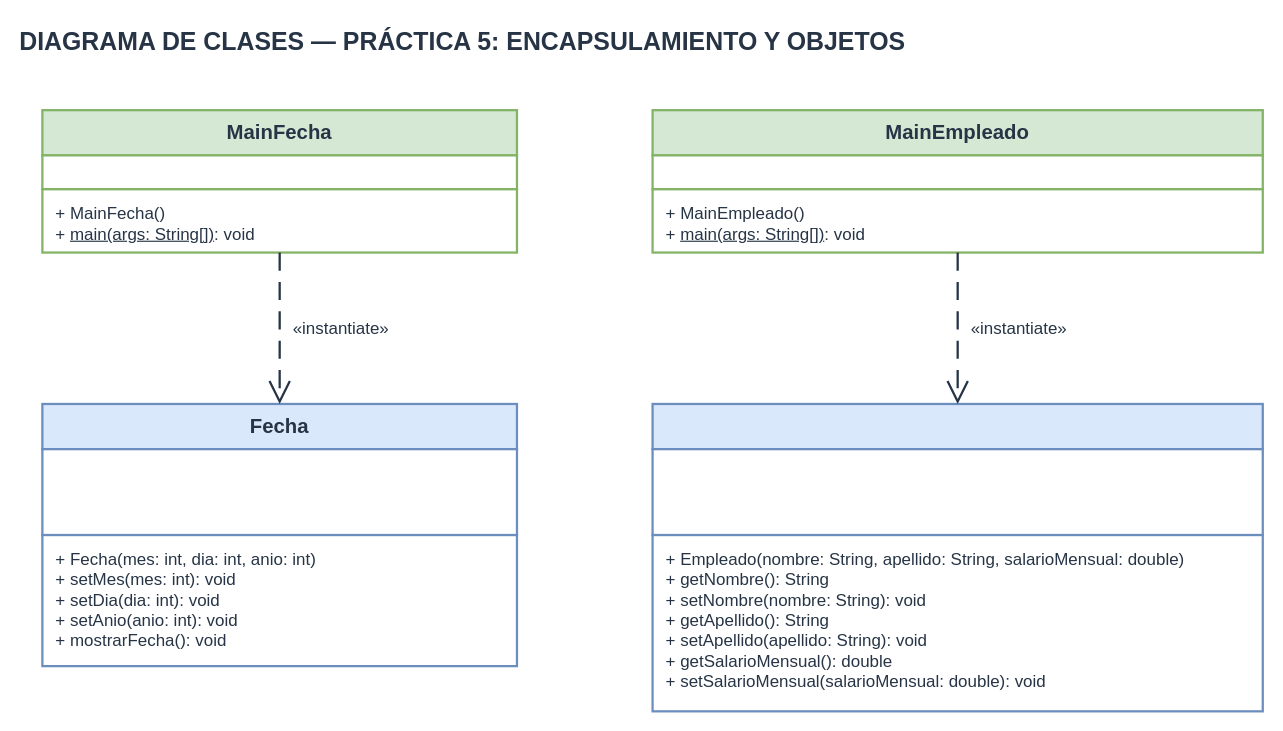
The diagram is 1283 pixels wide and 731 high, and some of its shapes have lost their labels. Here are the shapes that lost their labels. From the top down, the box of each, then its label:
(651, 402, 1263, 450): Empleado
(41, 447, 518, 536): - mes: int - dia: int - anio: int
(651, 447, 1263, 536): - nombre: String - apellido: String - salarioMensual: double
